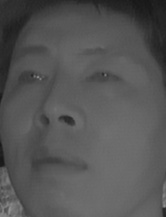eye: (87, 67, 124, 89), (15, 67, 49, 87)
mouth: (26, 142, 93, 183)
